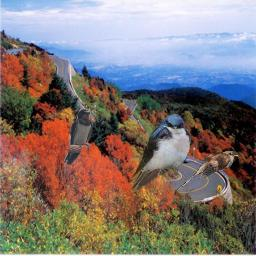Cuckoo: (176, 150, 240, 191)
Swallow: (129, 113, 192, 191), (63, 109, 93, 165)
